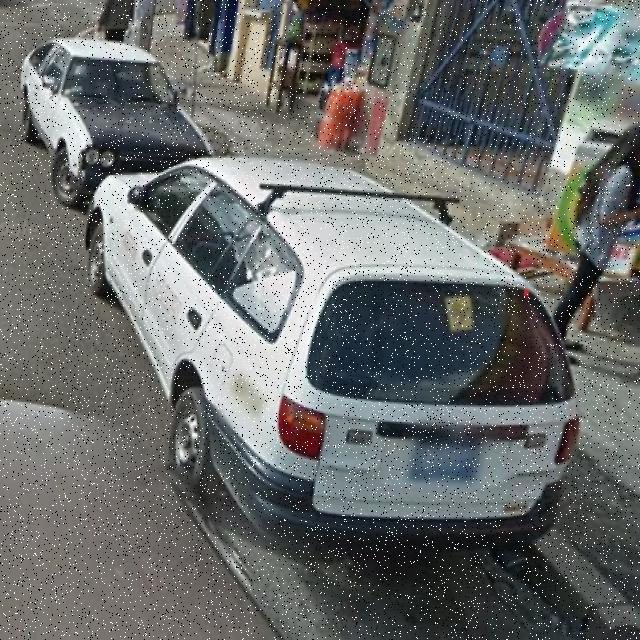cars: (112, 157, 576, 540), (18, 34, 210, 164)
